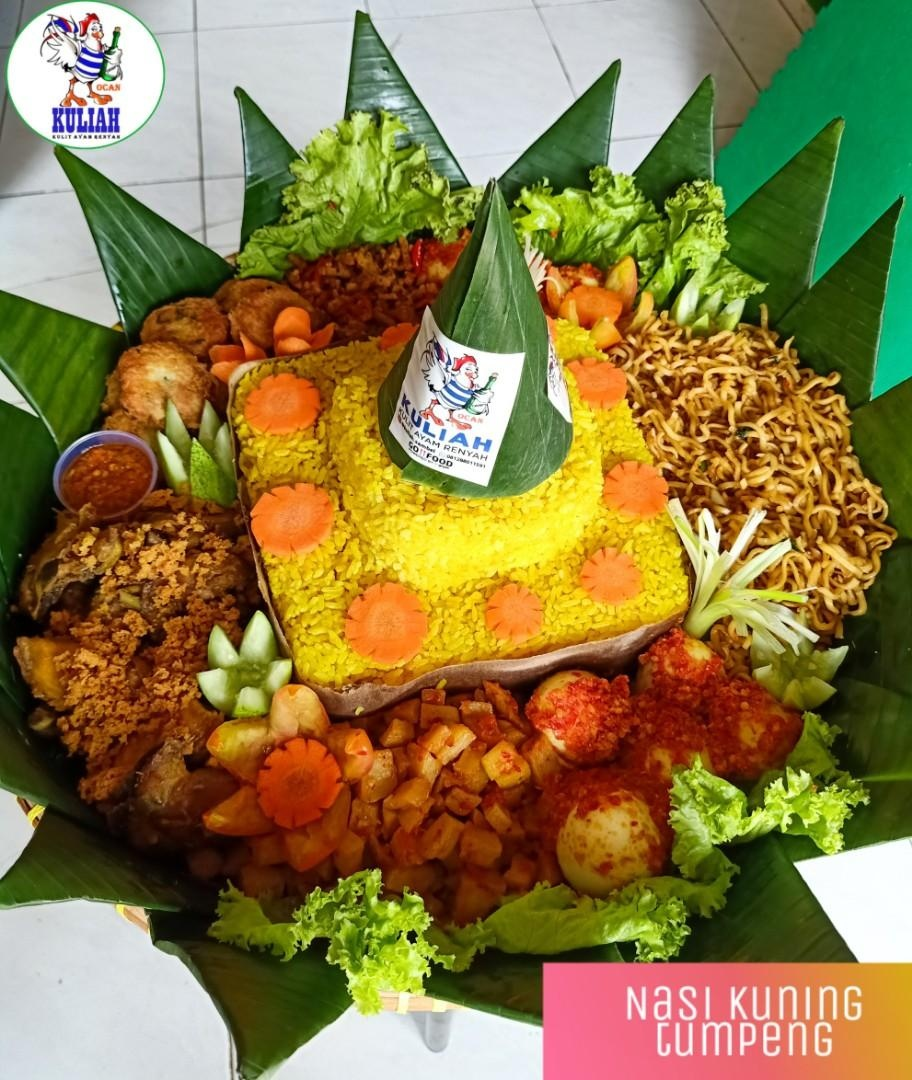nasi_tumpeng: (19, 166, 883, 907)
